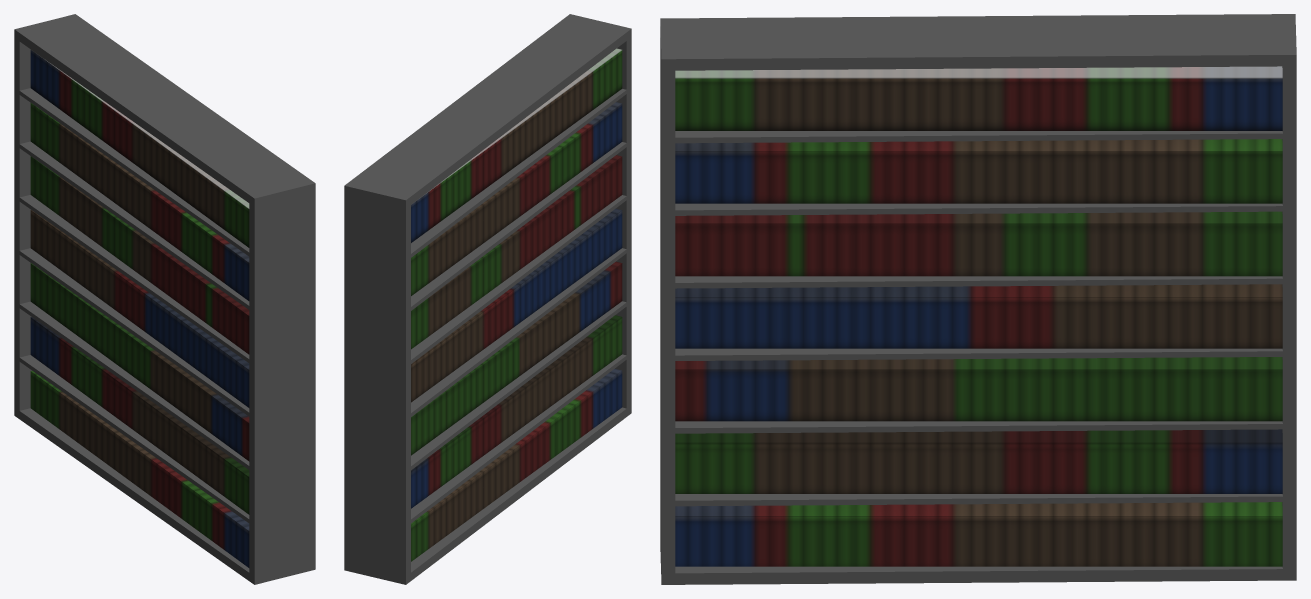
Rendered from BookShelf_02.fbx.
3 renders of one model, left to right at view 1: azimuth 30°, elevation 25°; view 2: azimuth 150°, elevation 25°; view 3: azimuth 270°, elevation 25°, orthographic. The views are drawn at different scales.
Visible parts, largest first — view 1: BookShelf; view 2: BookShelf; view 3: BookShelf.
Boxes of the visible parts, bbox=[...] form: BookShelf: bbox=[14, 14, 315, 584]; BookShelf: bbox=[344, 14, 631, 584]; BookShelf: bbox=[660, 14, 1296, 584].
Size of the model in its own units: 173 by 939 by 1031.
